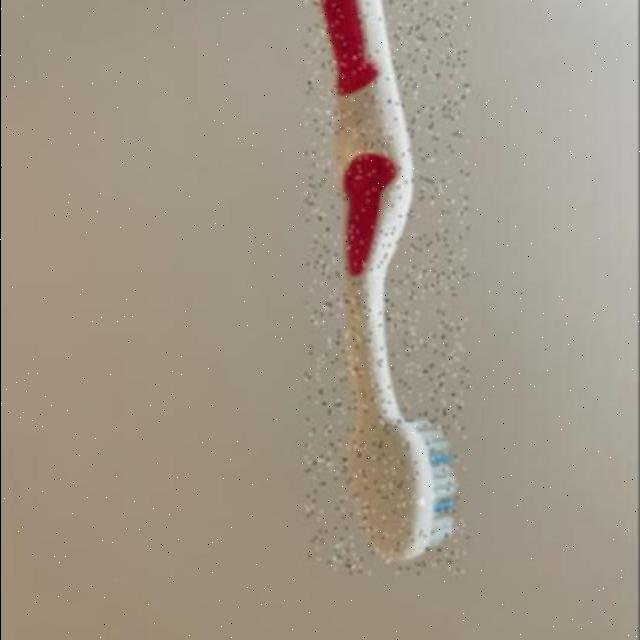toothbrush: (306, 1, 469, 574)
